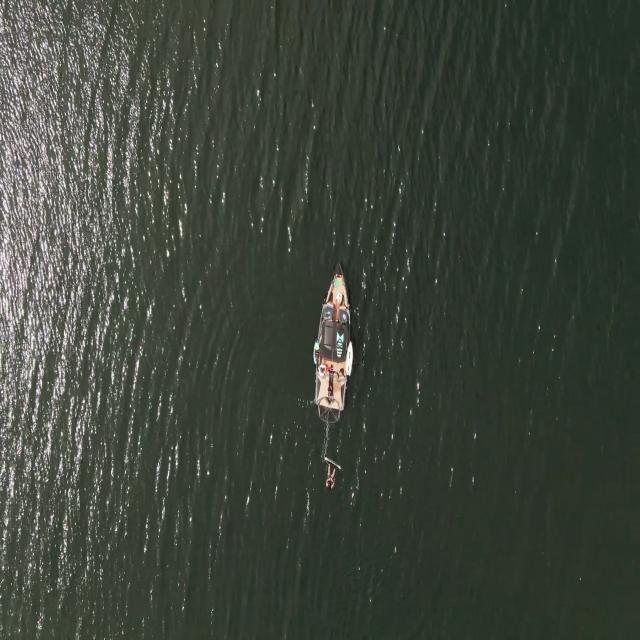ship: (314, 268, 351, 419), (344, 340, 355, 378)
